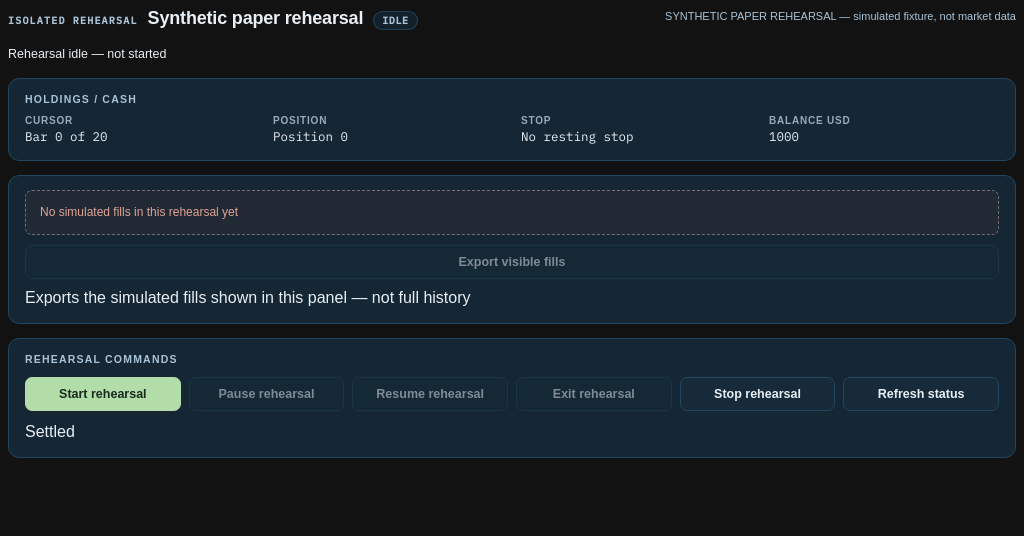
RehearsalPanel Signal layout — header panel › carries the sage tone on the state chip only while the backend says the loop is running
The width and height of the screenshot is (1024, 536).
Expected: the element with test id "rehearsal-holdings-panel" is shown, left=8, top=78, right=1016, bottom=161
Expected: the text with test id "rehearsal-state-chip" reads "idle", left=382, top=14, right=409, bottom=27
Click the button "Start rehearsal" at (103, 394), box left=25, top=377, right=181, bottom=411
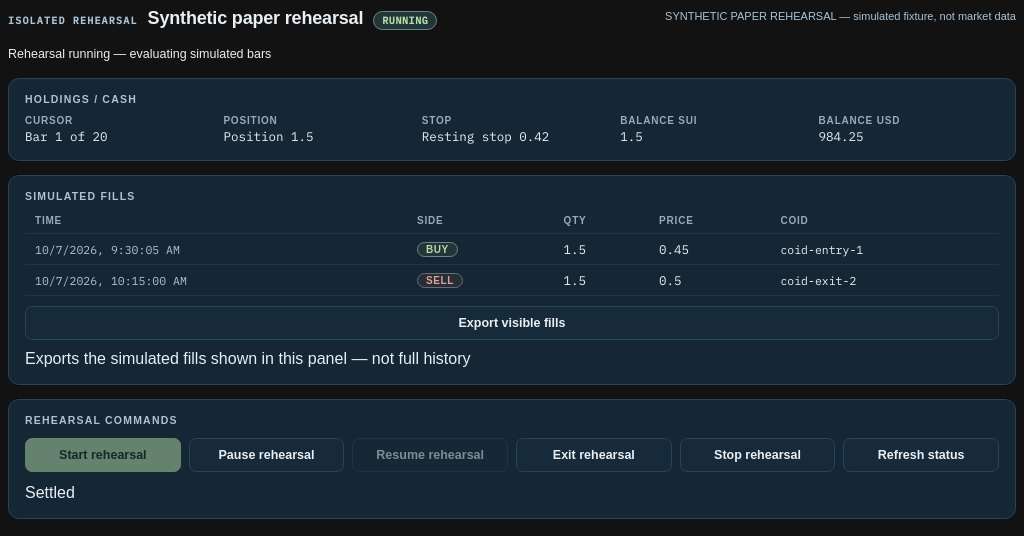
Expected: the text with test id "rehearsal-state-chip" reads "running", left=382, top=14, right=428, bottom=27
Expected: the text with test id "rehearsal-sentence" reads "Rehearsal running — evaluating simulated bars", left=8, top=47, right=271, bottom=61
